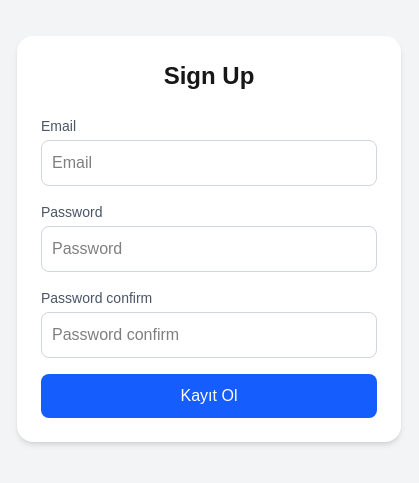
signupForm › inputlar render oluyor ve hata gösteriyor (email boş)
Click the button "Kayıt Ol". click: (209, 396)
box: [41,374,377,418]
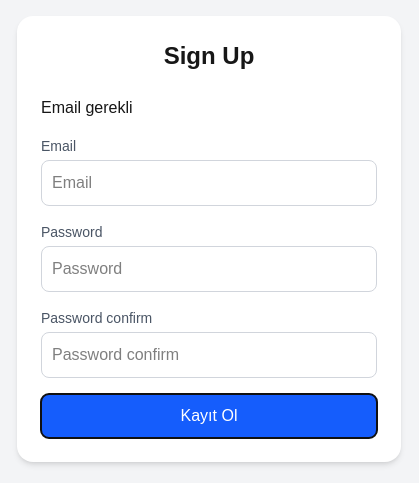
Check: the message reads "Email gerekli", box [41,99,133,116]
